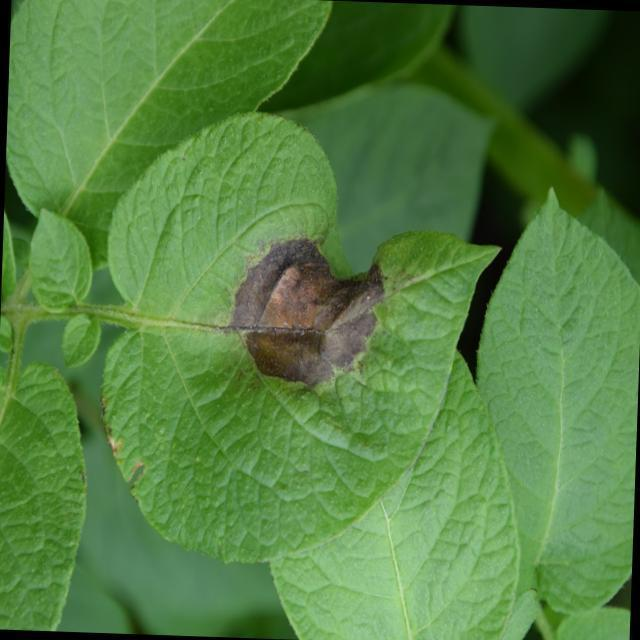Healthy Leaf: (473, 186, 640, 621), (26, 205, 94, 319), (60, 312, 98, 380)
